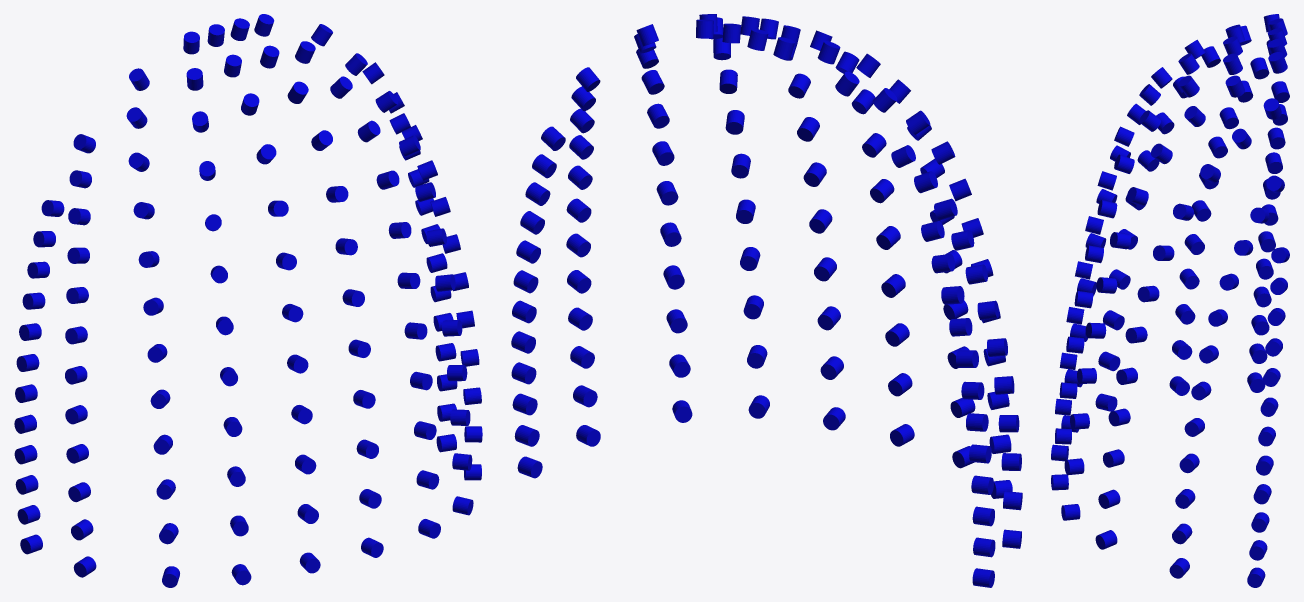
The model's file is left_thumb_tactile_link_1.obj.
3 renders of one model, left to right at view 1: azimuth 30°, elevation 25°; view 2: azimuth 150°, elevation 25°; view 3: azimuth 270°, elevation 25°, orthographic. The views are drawn at different scales.
Size of the model in its own units: 0.0313 by 0.0322 by 0.0154.
